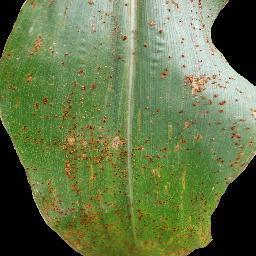Corn_Common_Rust: (2, 35, 107, 254), (154, 0, 256, 168), (154, 168, 243, 256), (107, 116, 152, 256), (4, 0, 130, 34), (108, 35, 150, 54), (106, 68, 117, 115), (111, 53, 127, 69), (137, 103, 154, 116), (144, 16, 154, 29)
